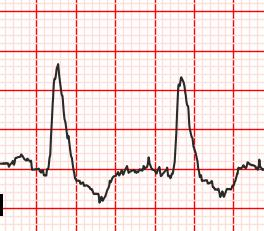ST Depression: (42, 154, 117, 208), (165, 154, 240, 201)
